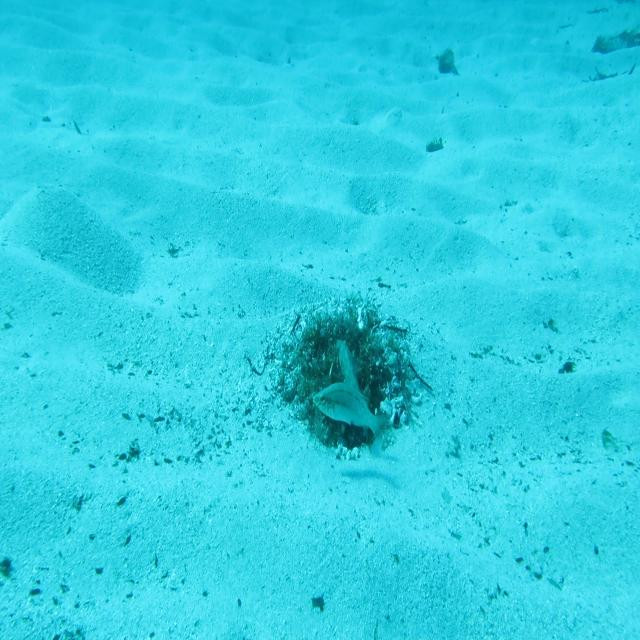FAN: (335, 338, 361, 404)
core_nest: (323, 331, 367, 359)
female: (312, 380, 392, 459)
nest: (274, 286, 428, 466)
vegetation: (589, 25, 640, 58), (435, 47, 461, 79), (422, 135, 450, 155)
